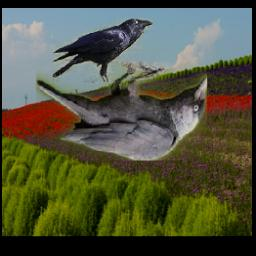Crow: (35, 62, 206, 161), (53, 19, 152, 84)
